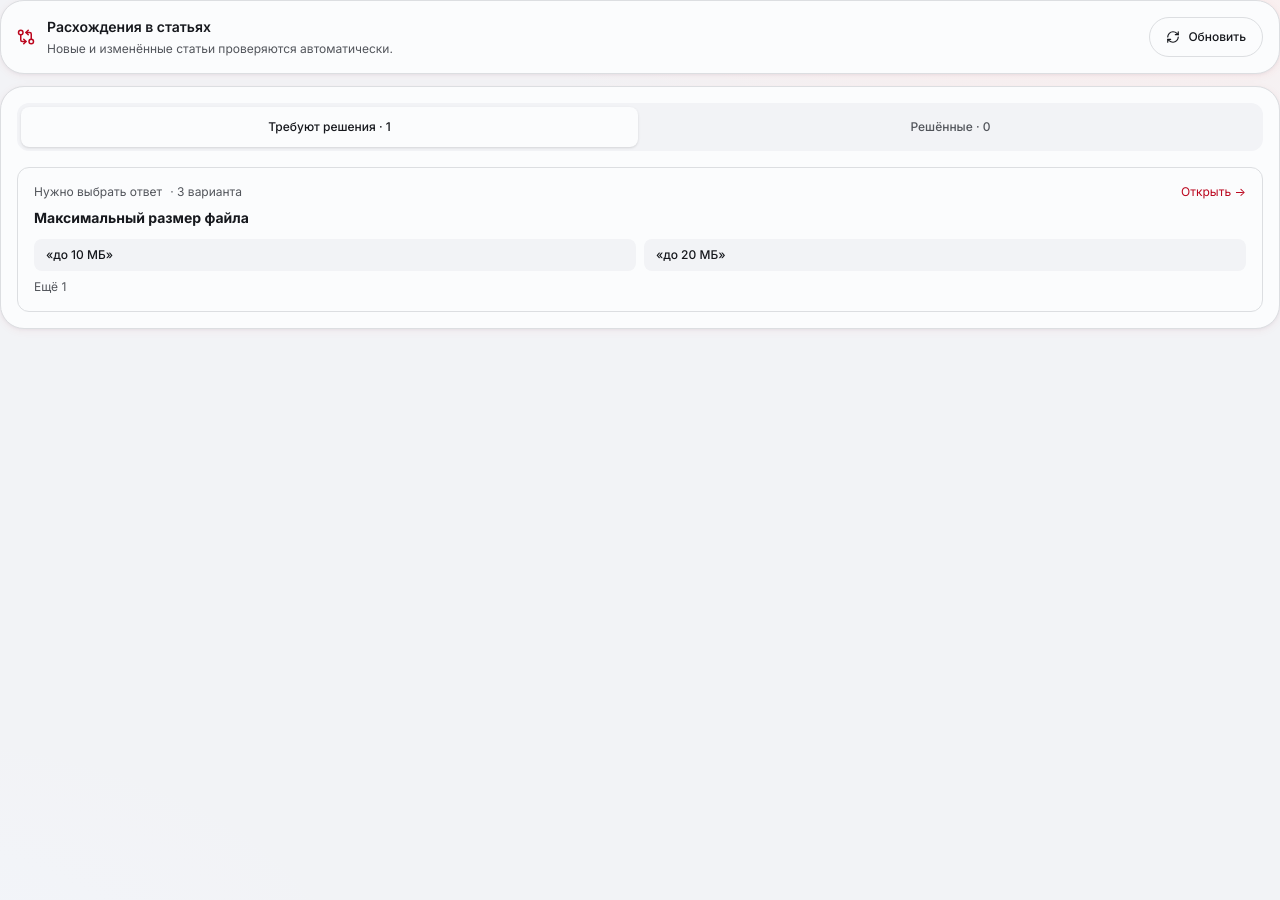
Test case: Расхождения в статьях › форматирует статьи тем же Markdown-компонентом, что и чат
Step 1. Click the button "Максимальный размер файла" → (640, 240), box [17,167,1263,312]
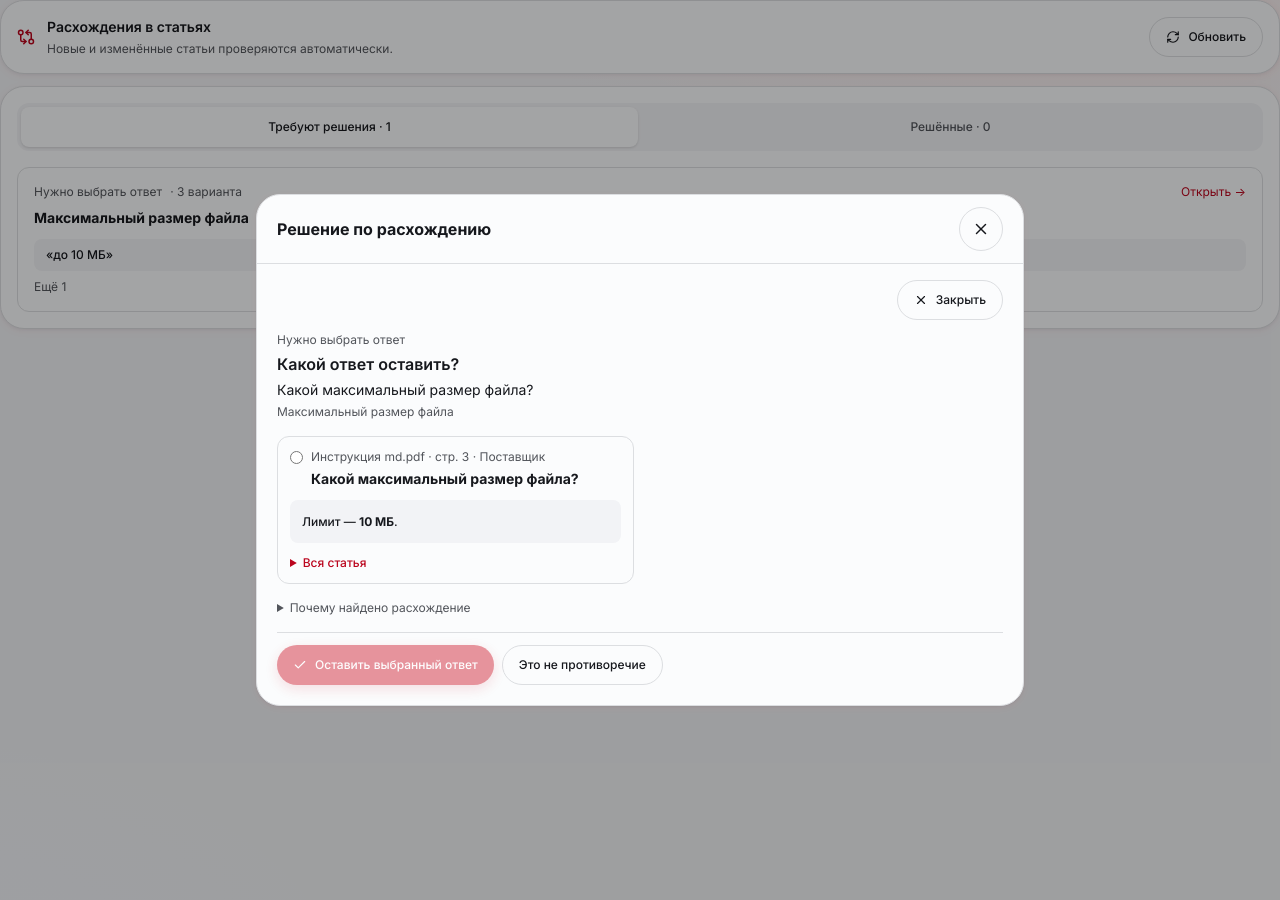
expect the text "10 МБ" is shown: met, box [359,514,394,529]
Step 2. Click the heading "Вся статья" → (335, 563), box [303,555,366,570]
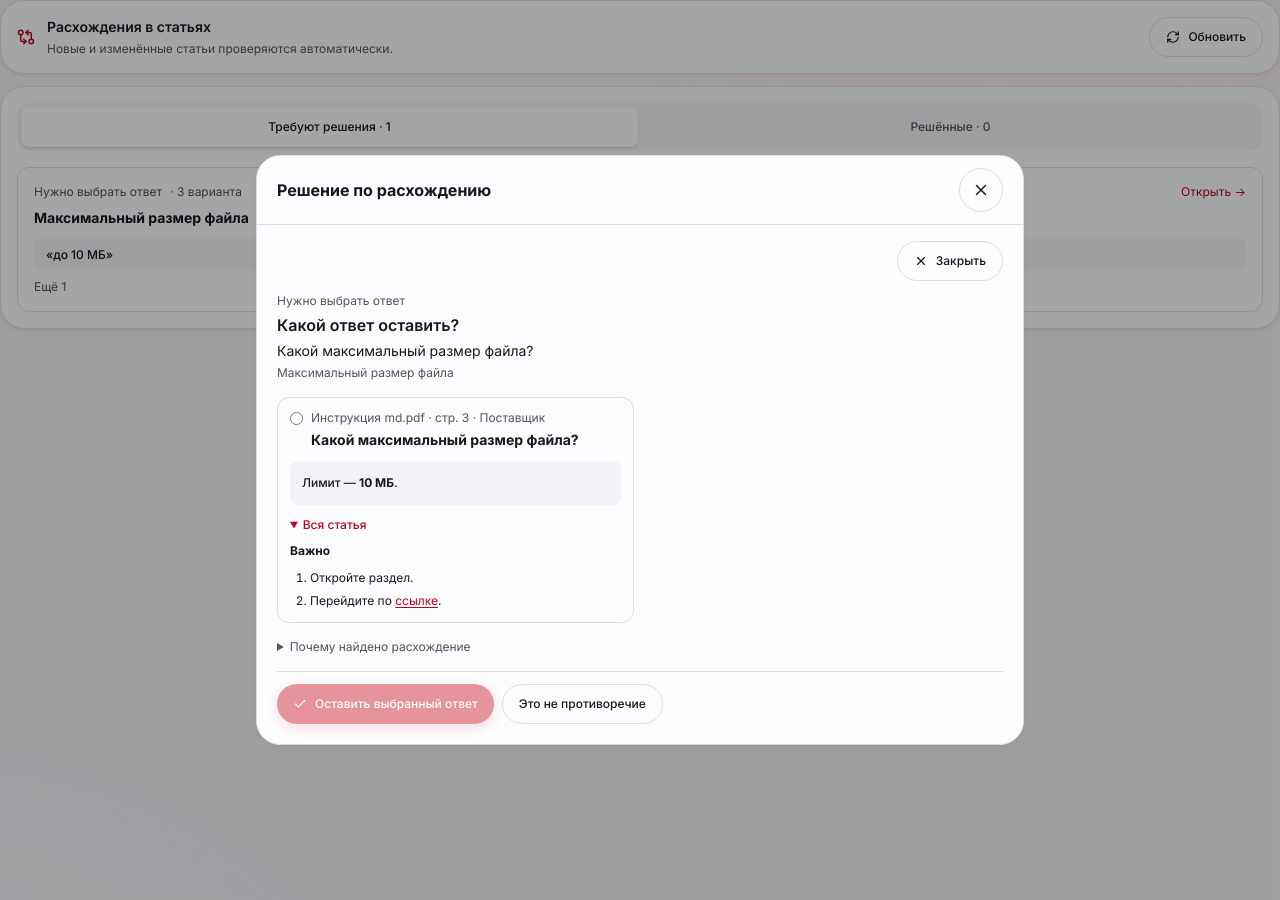
expect the text "Важно" is shown: met, box [290,542,330,558]
